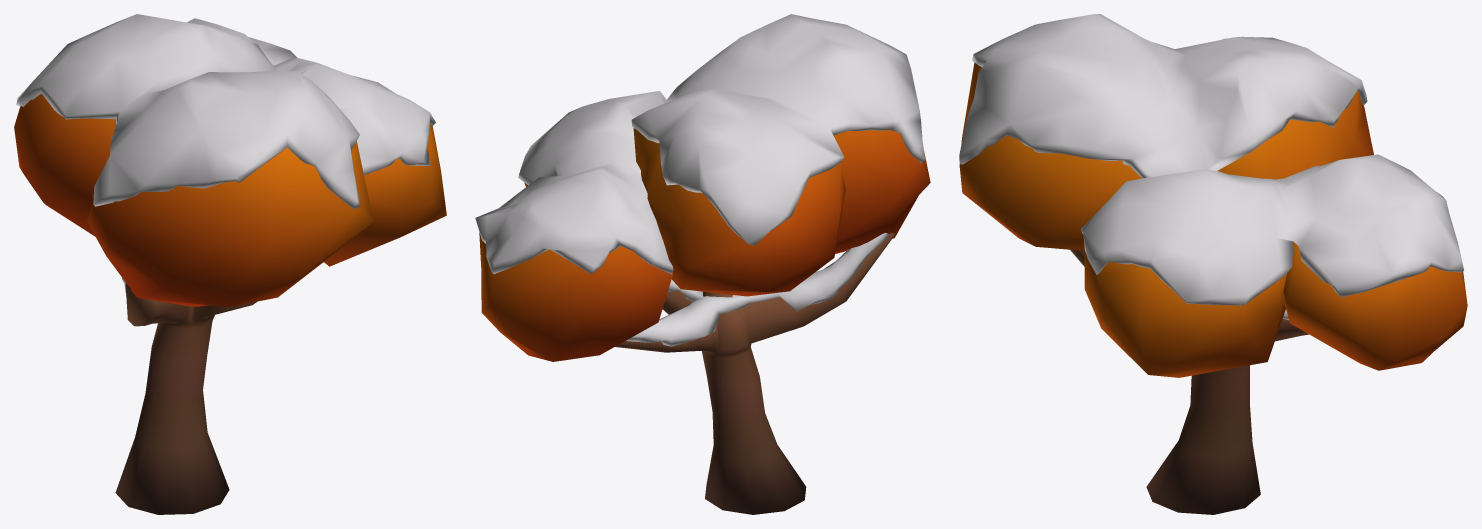
Rendered from TreeSnowy_6.fbx.
3 renders of one model, left to right at view 1: azimuth 30°, elevation 25°; view 2: azimuth 150°, elevation 25°; view 3: azimuth 270°, elevation 25°, orthographic. The views are drawn at different scales.
Parts seen in each view (by area): view 1: TreeSnowy_6; view 2: TreeSnowy_6; view 3: TreeSnowy_6.
Part boxes in pixels (bbox=[...]): TreeSnowy_6: bbox=[14, 14, 446, 514]; TreeSnowy_6: bbox=[475, 14, 930, 514]; TreeSnowy_6: bbox=[959, 14, 1467, 514].
Size of the model in its own units: 400 by 450 by 451.
